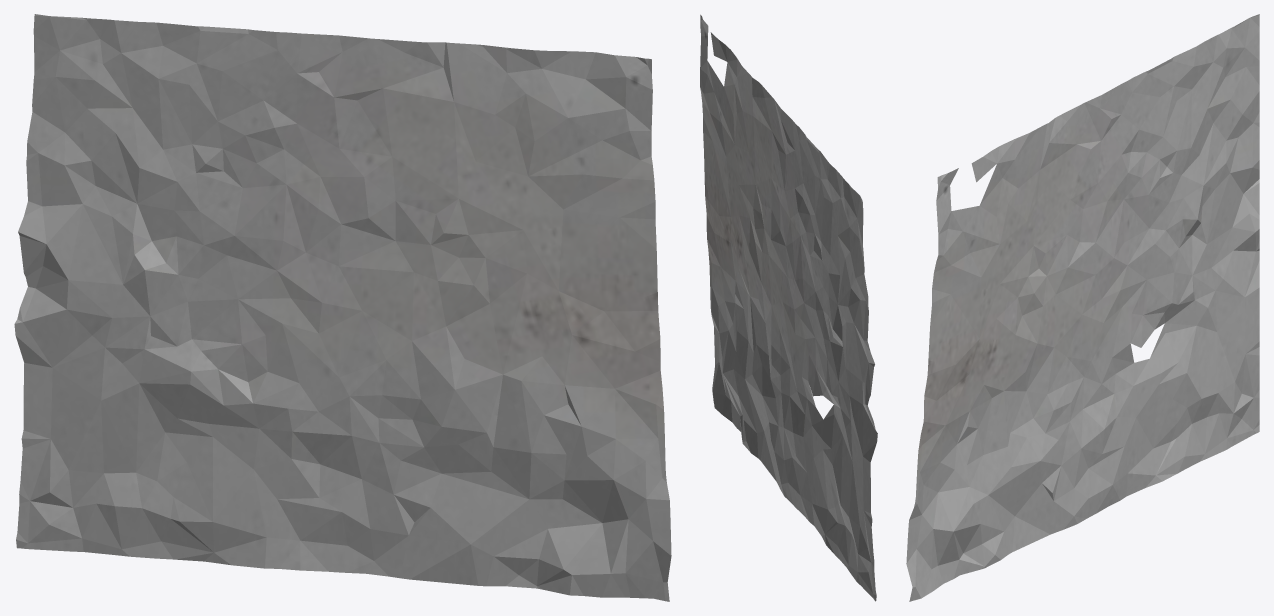
The picture shows the model from 3 angles, left to right: view 1: azimuth 30°, elevation 25°; view 2: azimuth 150°, elevation 25°; view 3: azimuth 270°, elevation 25°; orthographic projection. The views are drawn at different scales.
Size of the model in its own units: 0.7226 by 0.8374 by 0.6306.
3 materials, 3 textured.
